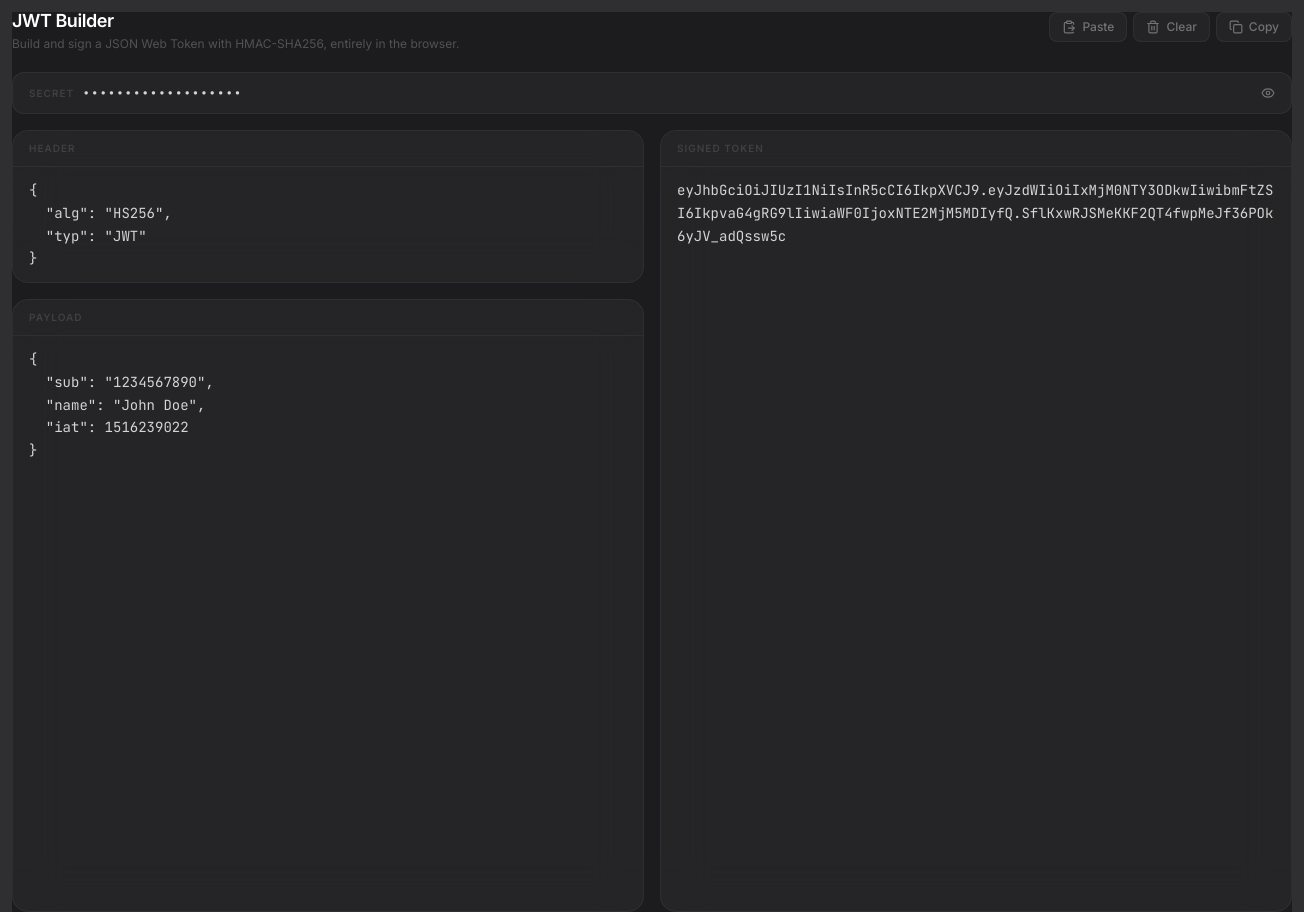
Test: JwtBuilder › shows an error for invalid payload JSON
Replace the text in the text box below "Payload" with "not json": (328, 624) [13,336,643,911]
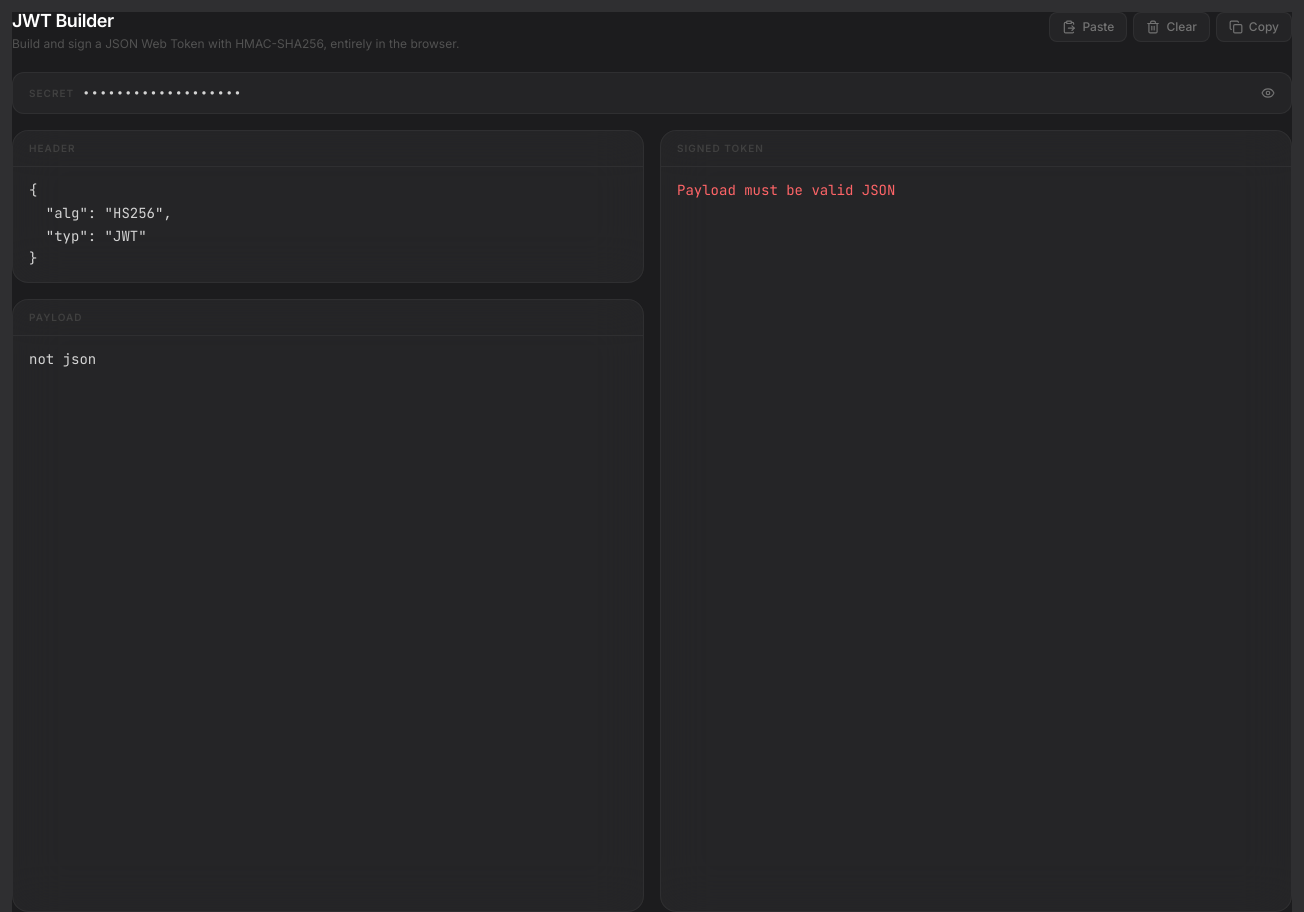
Check: the text "Payload must be valid JSON" is shown, box [677,181,895,199]
